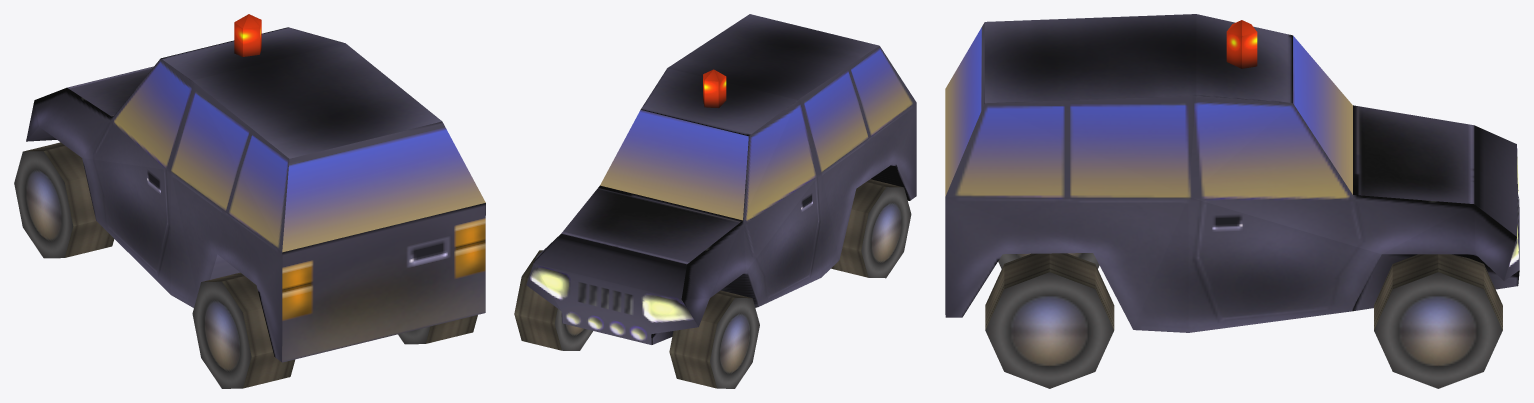
The model's file is truck.glb.
3 renders of one model, left to right at view 1: azimuth 30°, elevation 25°; view 2: azimuth 150°, elevation 25°; view 3: azimuth 270°, elevation 25°, orthographic. The views are drawn at different scales.
Parts seen in each view (by area): view 1: truck; view 2: truck; view 3: truck.
Boxes of the visible parts, x1,y1,x2,y2 form: truck: (14, 14, 485, 388); truck: (514, 14, 916, 388); truck: (945, 14, 1519, 388).
Bounding box in the file's own units: 222 × 260 × 440.
1 material, 1 textured.
